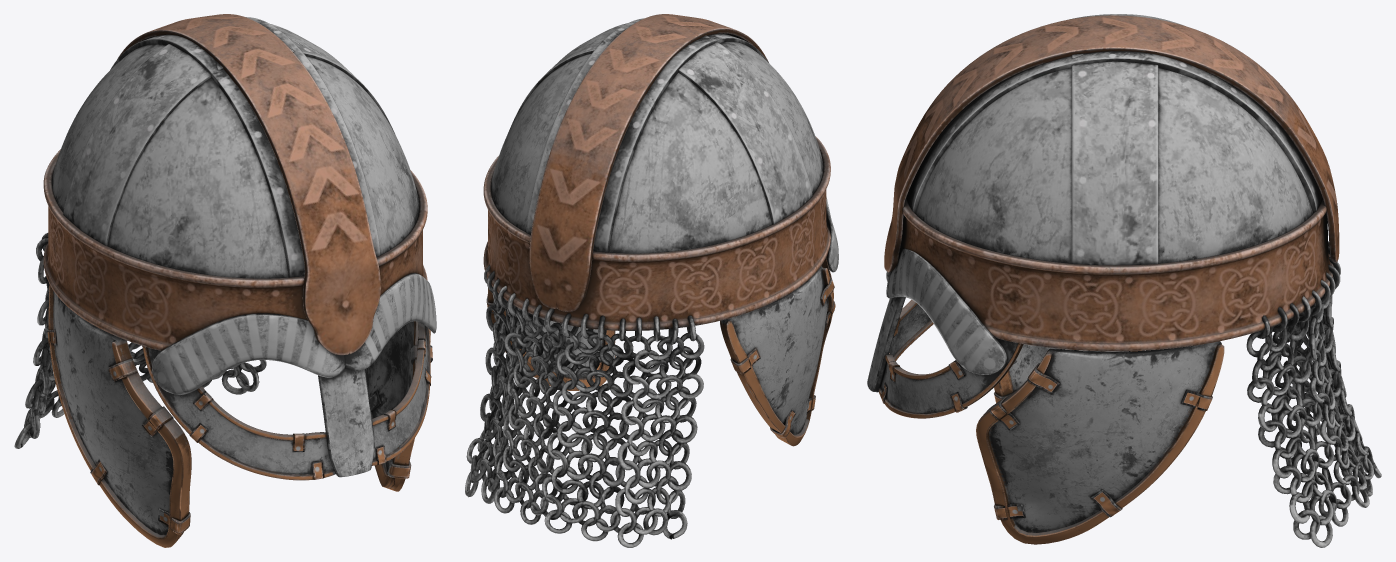
Rendered from Helm.dae.
3 renders of one model, left to right at view 1: azimuth 30°, elevation 25°; view 2: azimuth 150°, elevation 25°; view 3: azimuth 270°, elevation 25°, orthographic. The views are drawn at different scales.
Parts seen in each view (by area): view 1: Helm_High; view 2: Helm_High; view 3: Helm_High.
Boxes of the visible parts, <box> form: Helm_High: <box>14,14,436,547</box>; Helm_High: <box>465,14,838,547</box>; Helm_High: <box>867,14,1381,547</box>.
Bounding box in the file's own units: 0.2341 × 0.3234 × 0.3239.
5 materials, 5 textured.
